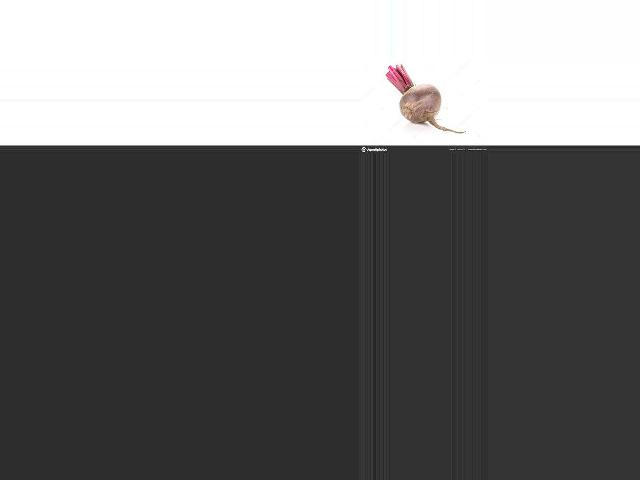beet: (386, 65, 466, 133)
